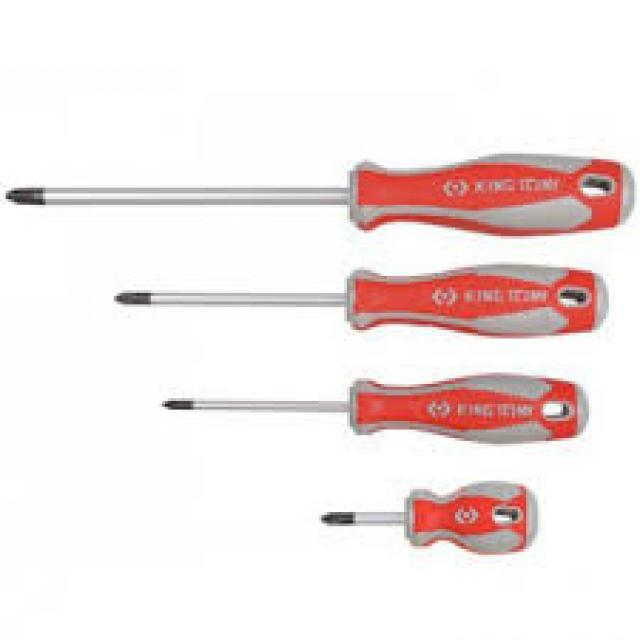screwdriver: (8, 148, 640, 236), (109, 259, 613, 347), (162, 368, 592, 448), (298, 476, 544, 562)
